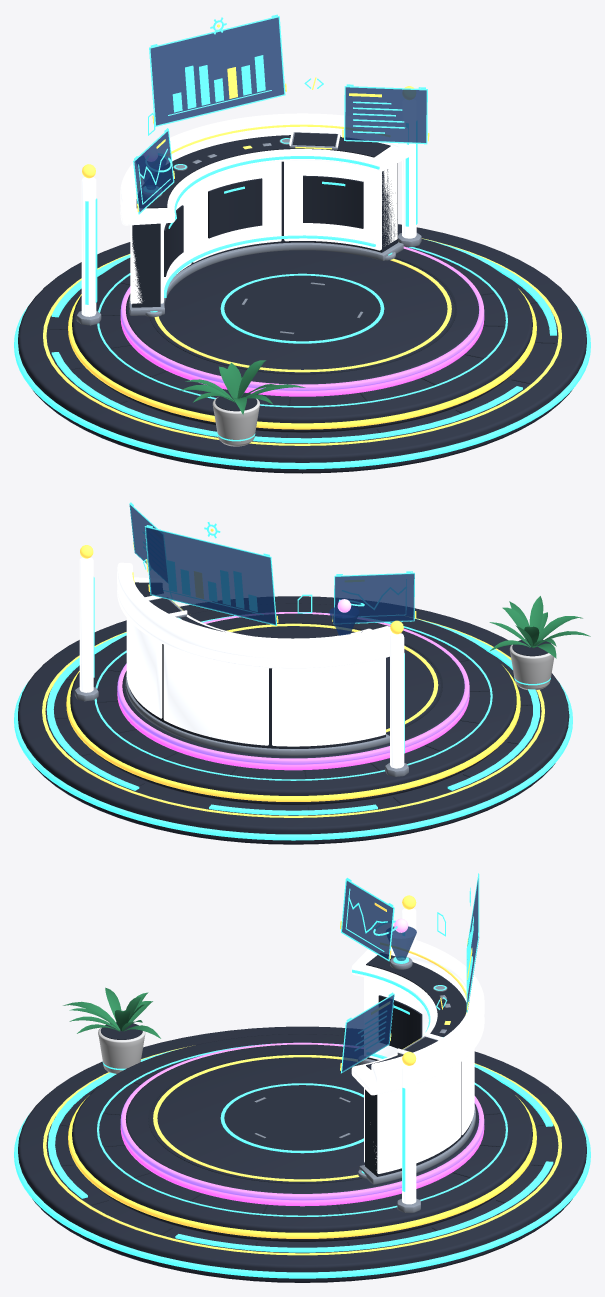
Rendered from main_desk.glb.
The picture shows the model from 3 angles, top to bottom: view 1: azimuth 30°, elevation 25°; view 2: azimuth 150°, elevation 25°; view 3: azimuth 270°, elevation 25°; orthographic projection. The views are drawn at different scales.
Visible parts, largest first — view 1: main_desk; view 2: main_desk; view 3: main_desk.
Part boxes in pixels (left/top/right/bottom): main_desk: left=14, top=14, right=590, bottom=473; main_desk: left=14, top=502, right=590, bottom=844; main_desk: left=14, top=873, right=590, bottom=1282.
Size of the model in its own units: 4.06 by 2.13 by 4.06.
